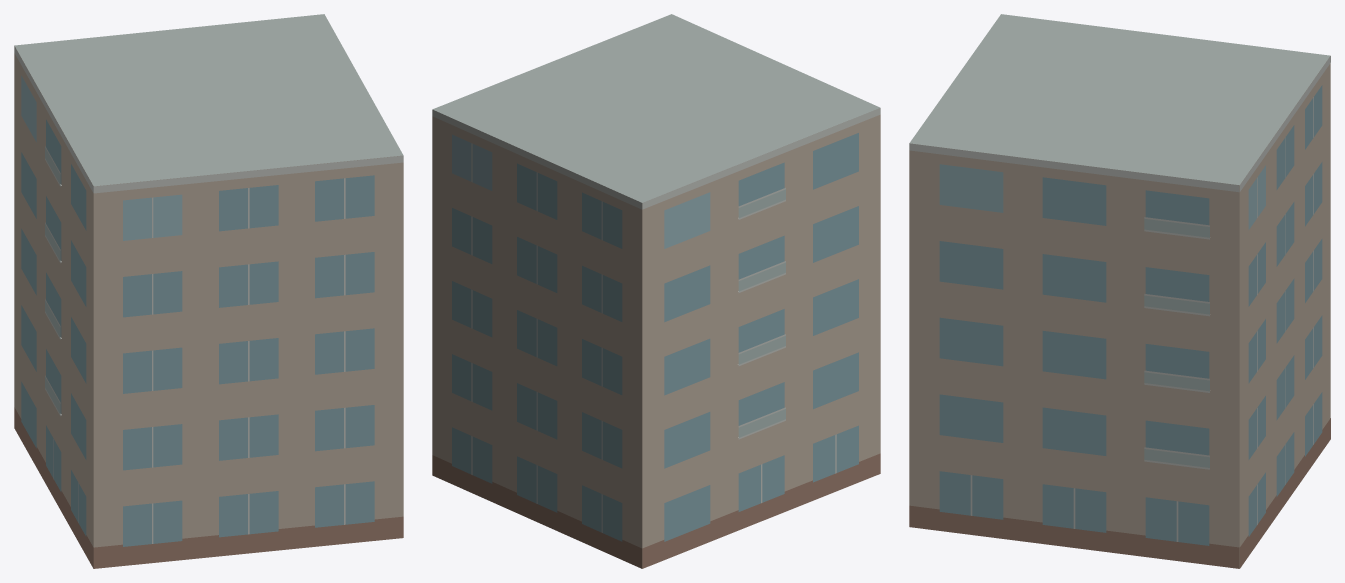
The model's file is survey-upis-33009834.glb.
3 renders of one model, left to right at view 1: azimuth 30°, elevation 25°; view 2: azimuth 150°, elevation 25°; view 3: azimuth 270°, elevation 25°, orthographic. The views are drawn at different scales.
Parts seen in each view (by area): view 1: survey-upis-33009834.tmp; view 2: survey-upis-33009834.tmp; view 3: survey-upis-33009834.tmp.
Part boxes in pixels (x1,y1,x2,y2): survey-upis-33009834.tmp: (14,14,403,568); survey-upis-33009834.tmp: (432,14,880,568); survey-upis-33009834.tmp: (909,14,1330,568).
Bounding box in the file's own units: 12.64 × 13.2 × 13.15.
